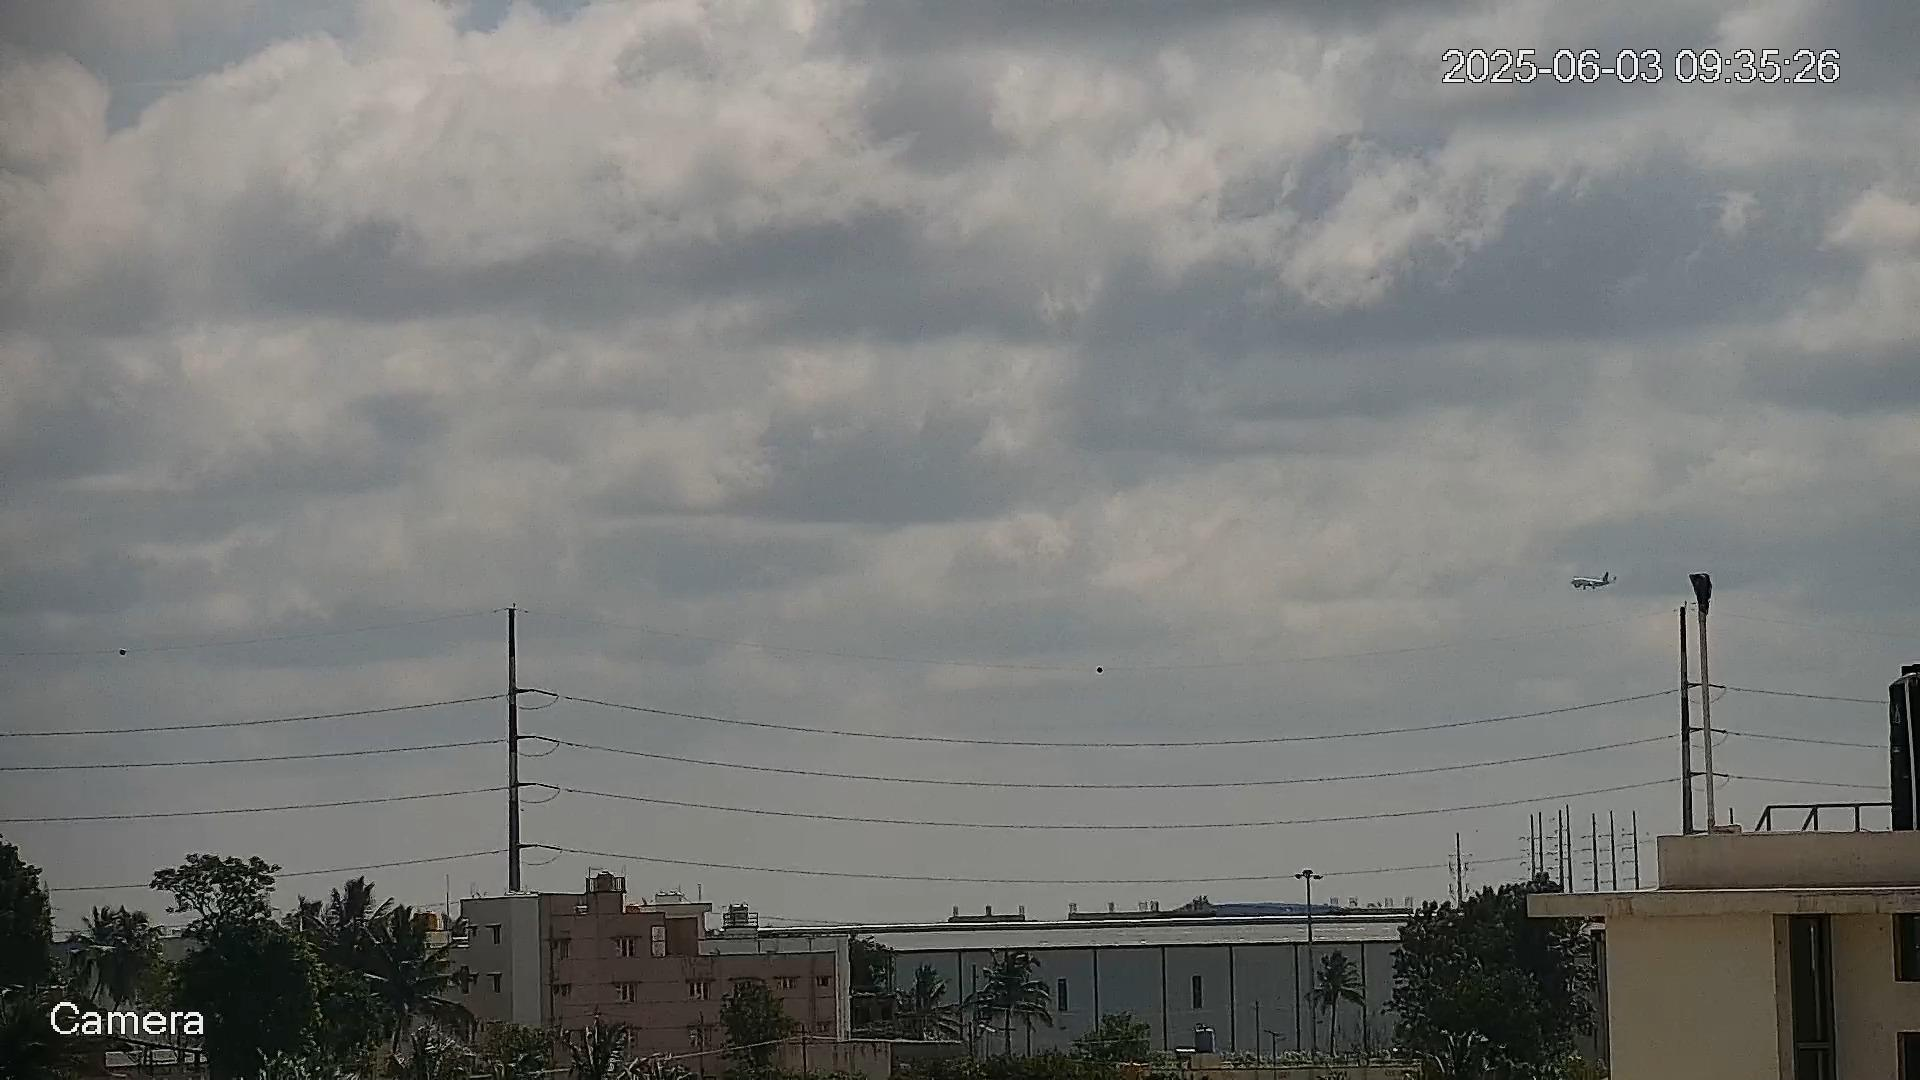Aircraft: (1567, 570, 1615, 593)
